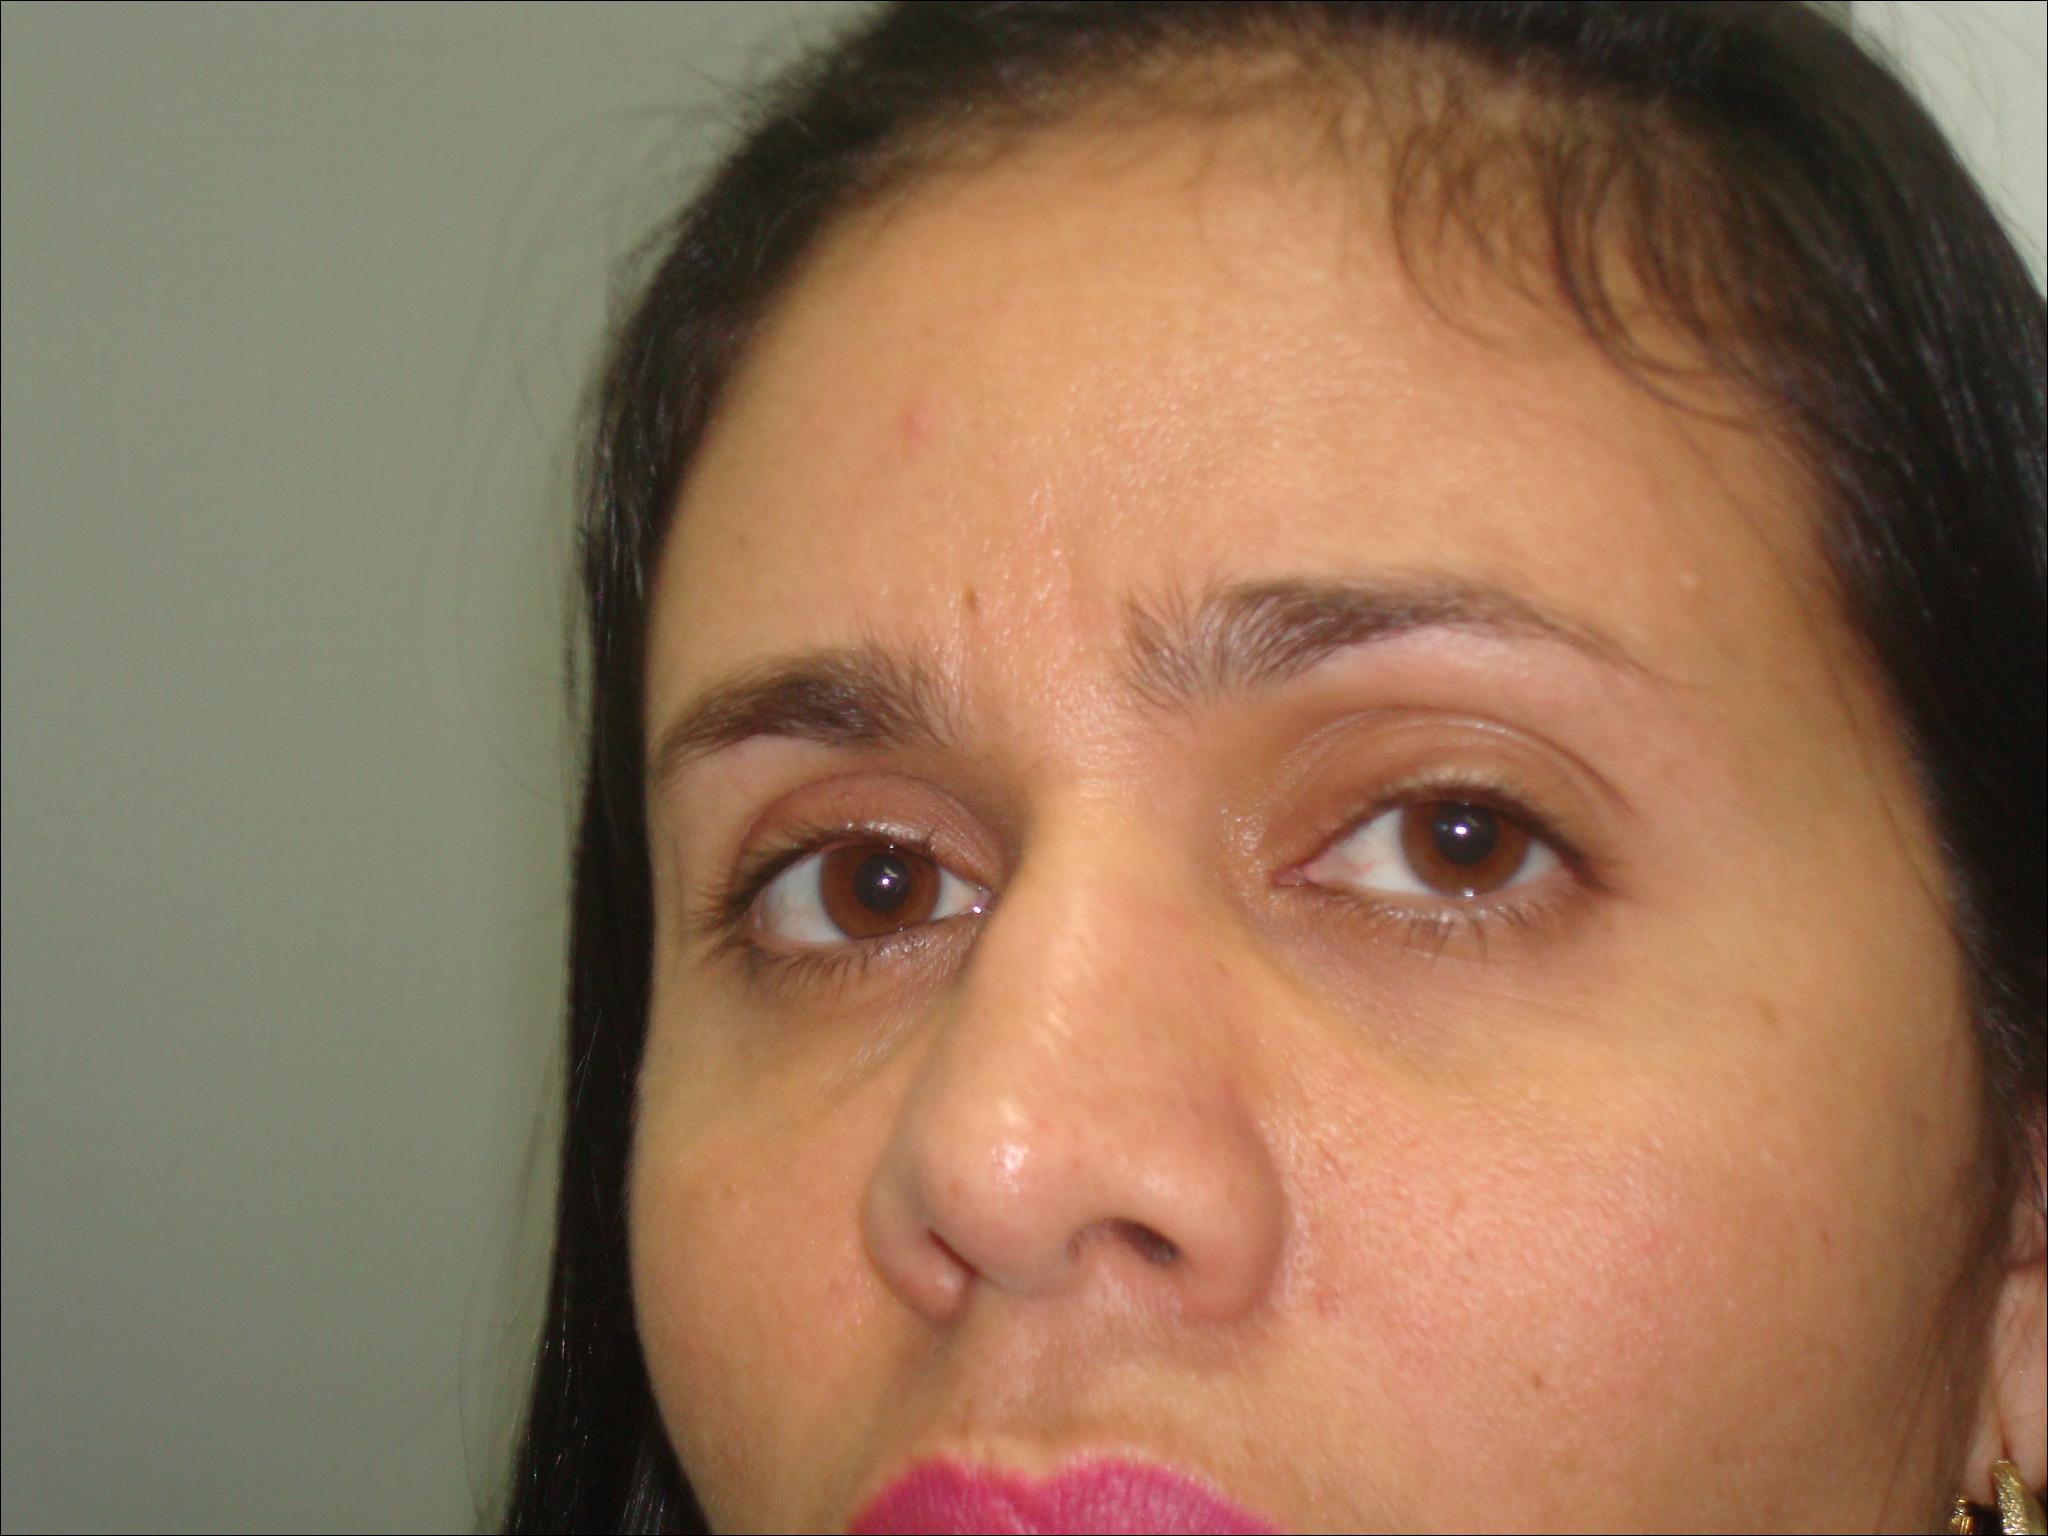flash: (874, 871, 897, 894), (1451, 818, 1472, 842)
limbo: (1397, 771, 1529, 891), (822, 824, 940, 939)
